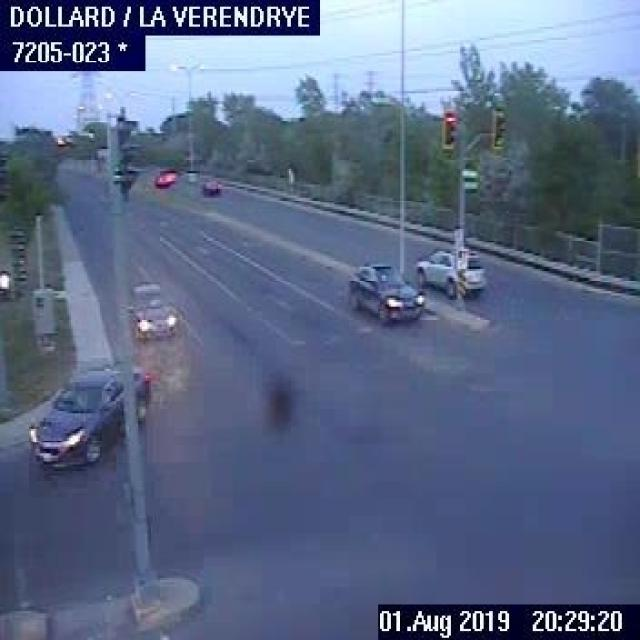vehicle: (27, 362, 151, 473), (344, 260, 424, 324), (414, 244, 489, 298), (129, 278, 178, 342), (153, 164, 176, 189), (198, 175, 221, 195)
